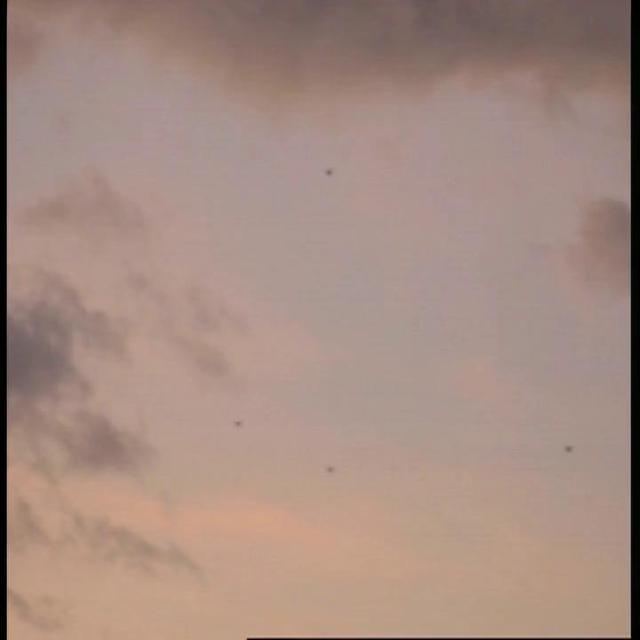drone: (314, 158, 344, 182), (225, 414, 248, 434), (318, 461, 342, 479), (558, 439, 578, 460)
